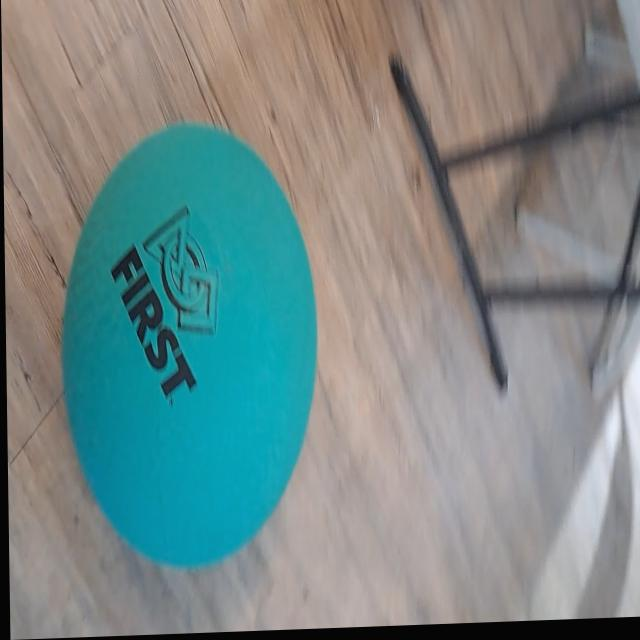ALGAE: (56, 115, 323, 576)
